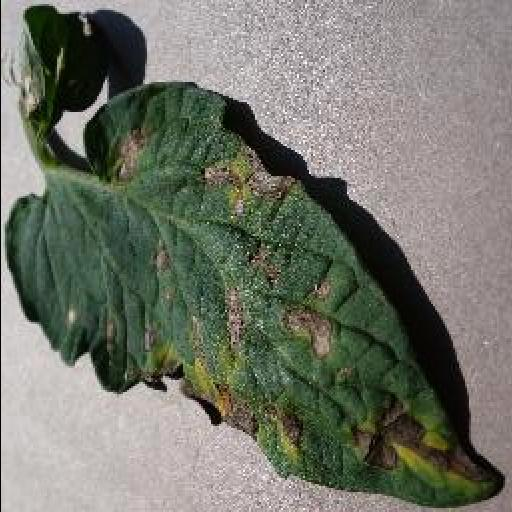disease_tomato: (10, 76, 504, 506)
